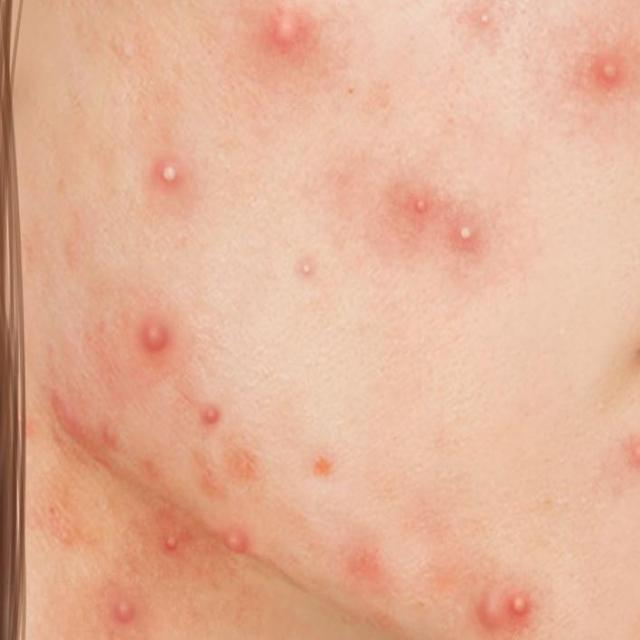blackheads: (266, 3, 306, 49), (506, 588, 536, 632), (595, 42, 620, 93), (138, 313, 164, 349), (476, 587, 501, 623), (113, 589, 134, 628), (223, 530, 248, 555), (160, 160, 181, 186), (454, 221, 474, 246), (201, 400, 218, 428), (292, 255, 312, 277), (312, 452, 331, 475), (158, 532, 178, 552), (413, 189, 427, 214), (475, 6, 490, 29)
